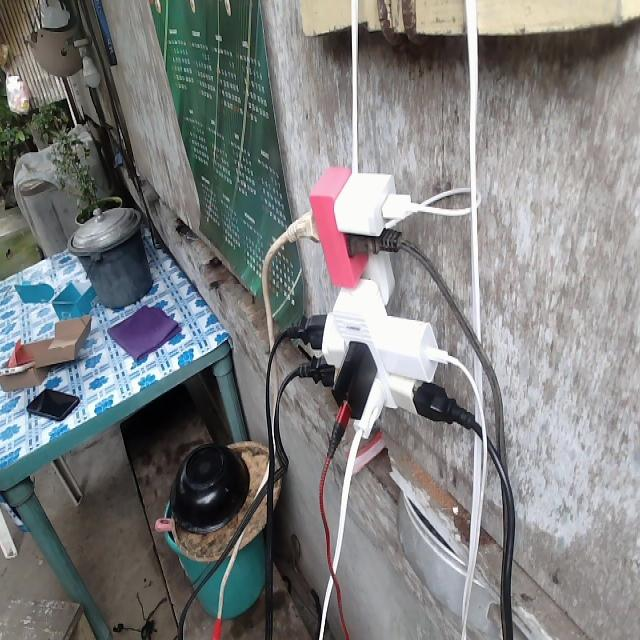-: (293, 164, 442, 437)
